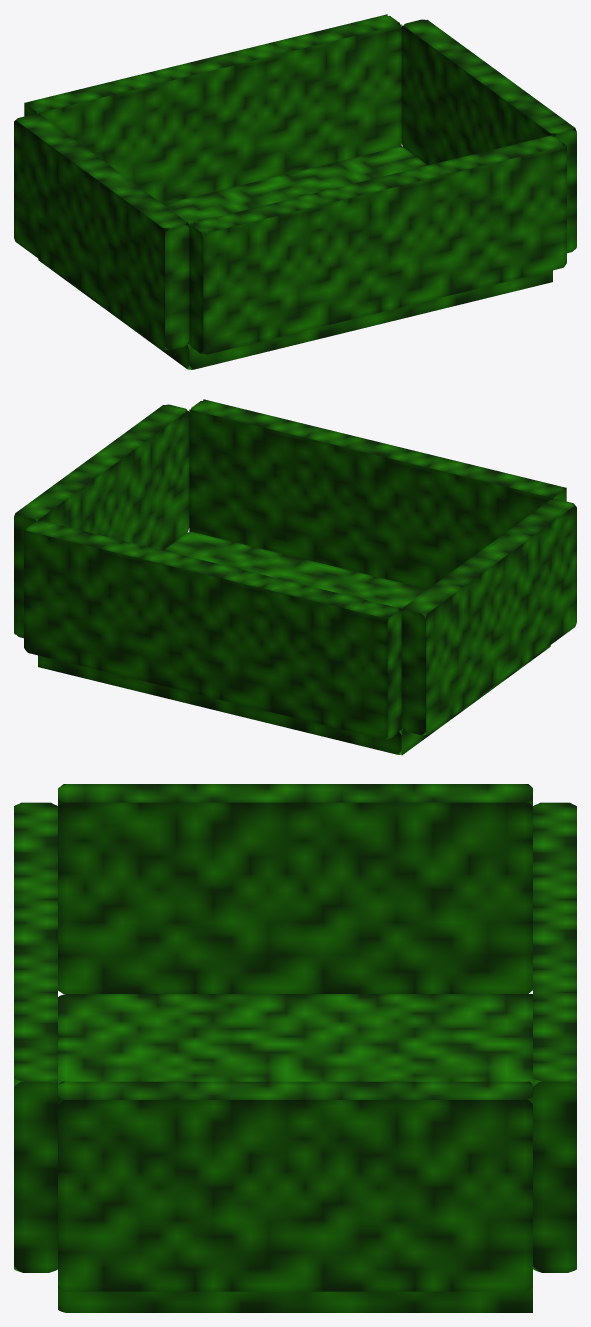
The model's file is boat_leaves.fbx.
The picture shows the model from 3 angles, top to bottom: view 1: azimuth 30°, elevation 25°; view 2: azimuth 150°, elevation 25°; view 3: azimuth 270°, elevation 25°; orthographic projection. The views are drawn at different scales.
Visible parts, largest first — view 1: Cube.085; view 2: Cube.085; view 3: Cube.085.
Part boxes in pixels (box(x1,y1,x2,y2)): Cube.085: box(14, 14, 576, 369); Cube.085: box(14, 399, 576, 755); Cube.085: box(14, 784, 576, 1312).
Size of the model in its own units: 283 by 96.64 by 213.
